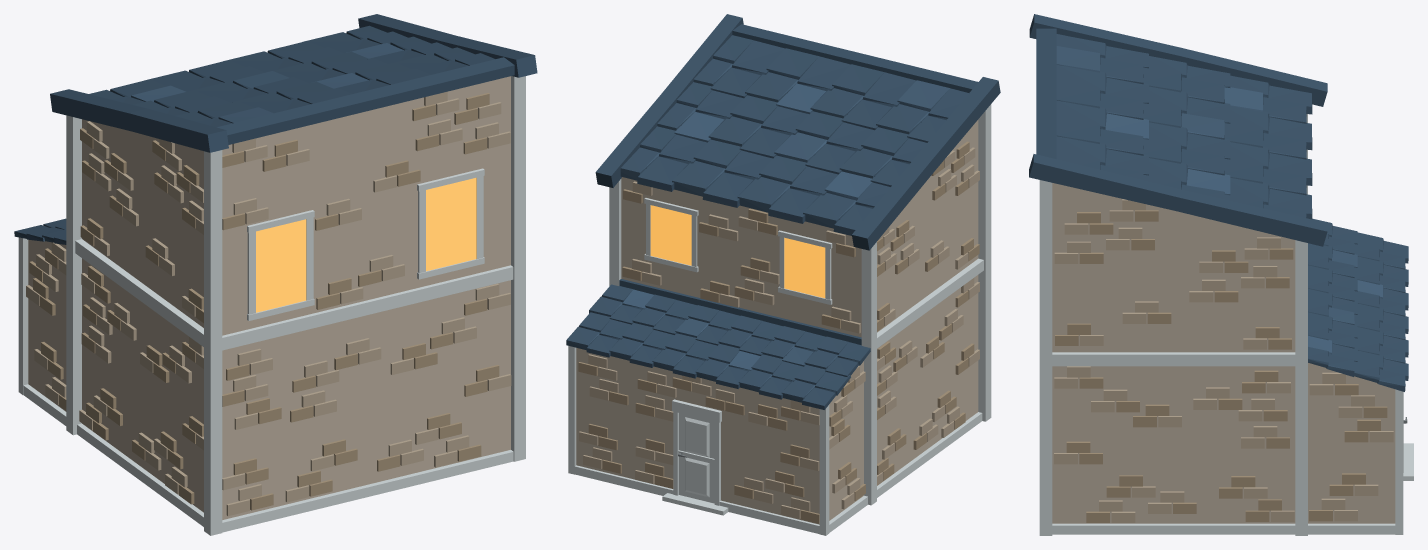
The model's file is SM_House_10.fbx.
The picture shows the model from 3 angles, left to right: view 1: azimuth 30°, elevation 25°; view 2: azimuth 150°, elevation 25°; view 3: azimuth 270°, elevation 25°; orthographic projection. The views are drawn at different scales.
Parts seen in each view (by area): view 1: SM_House_10_LOD0; view 2: SM_House_10_LOD0; view 3: SM_House_10_LOD0.
Boxes of the visible parts, <box> form: SM_House_10_LOD0: <box>14,14,537,535</box>; SM_House_10_LOD0: <box>566,14,1000,535</box>; SM_House_10_LOD0: <box>1029,14,1413,535</box>.
Size of the model in its own units: 765 by 838 by 905.
Materials: 1 (1 with a texture image).
